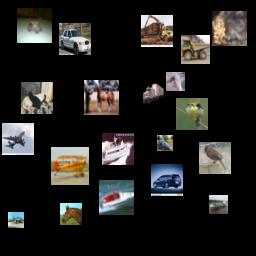airplane: (51, 147, 89, 185), (2, 123, 34, 155), (8, 212, 24, 228)
automobile: (151, 164, 183, 196), (59, 23, 91, 55)
bird: (176, 98, 208, 130), (199, 142, 231, 174), (166, 72, 185, 91)
cat: (21, 82, 53, 114)
frog: (17, 8, 52, 43), (212, 11, 247, 46)
ship: (99, 180, 134, 215), (102, 133, 134, 165), (209, 195, 228, 214)
truck: (141, 15, 173, 47), (181, 35, 210, 64), (143, 83, 165, 105), (157, 135, 173, 151)
